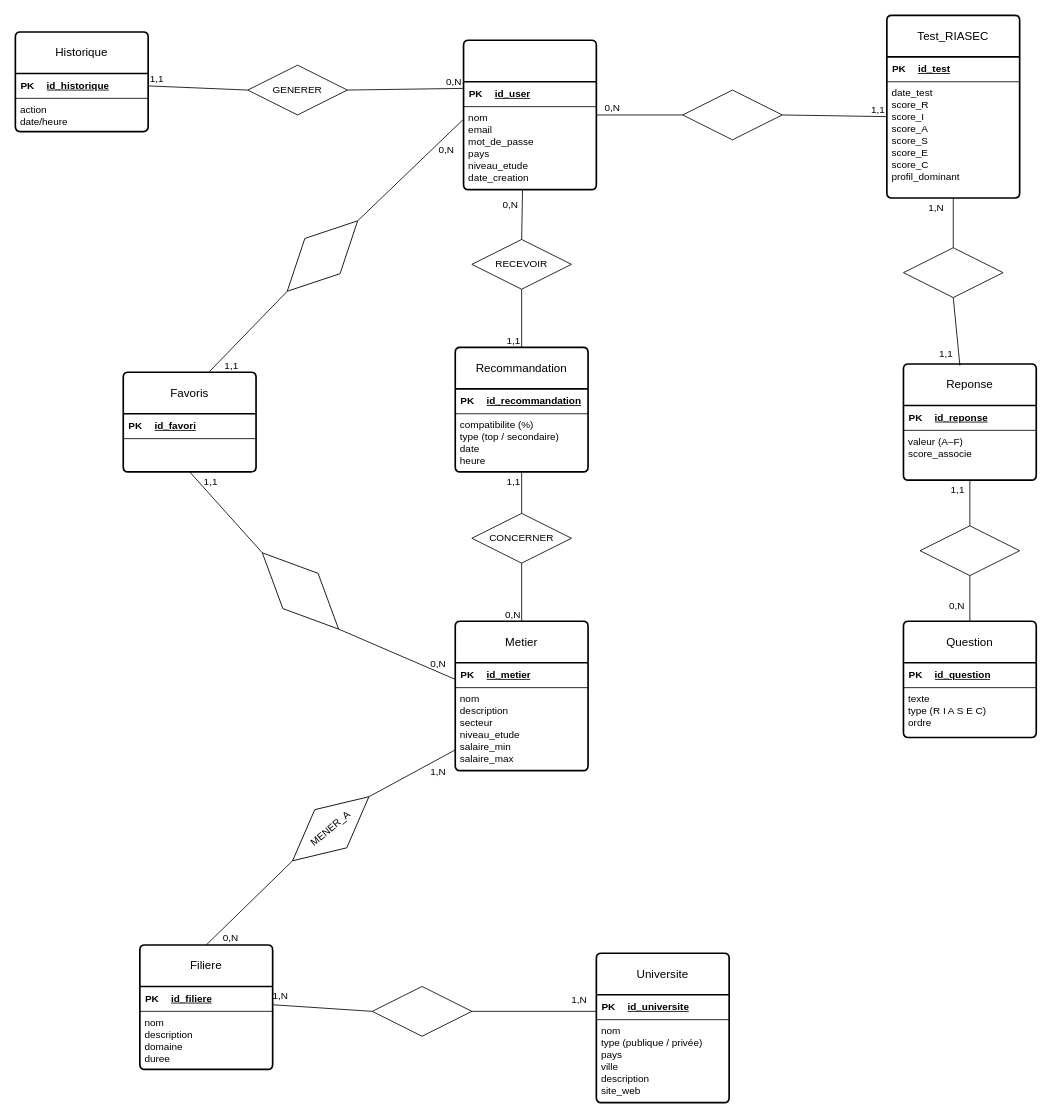
The diagram is 1051 pixels wide and 1117 high, and some of its shapes have lost their labels. Each missing label, with the box of its shape:
AJOUTER: (269, 202, 375, 309)
Contenir: (903, 247, 1003, 298)
CORRESPONDRE: (244, 534, 356, 647)
PASSER: (682, 89, 782, 140)
PROPOSER: (371, 986, 472, 1036)
REPONDRE_A: (919, 525, 1020, 576)
Utilisateur: (462, 39, 597, 190)
